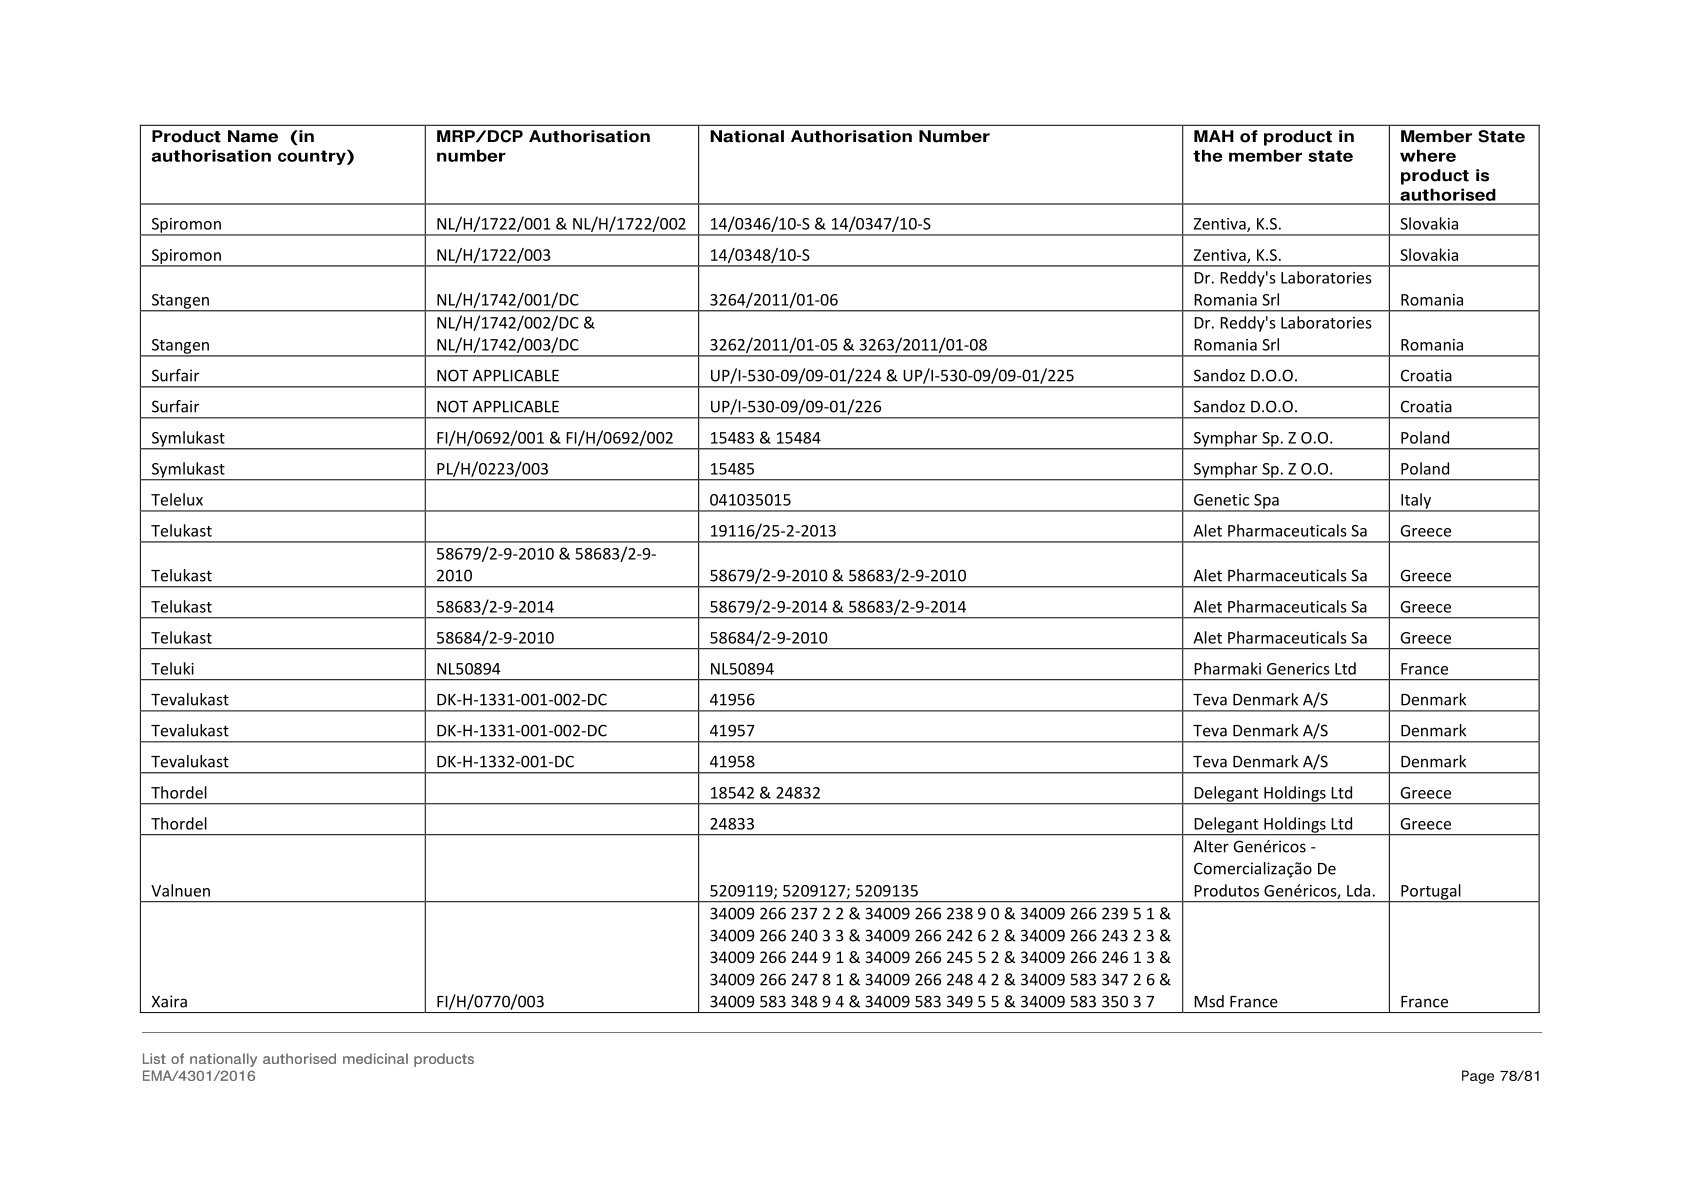full_lined: (138, 124, 1540, 1014)
